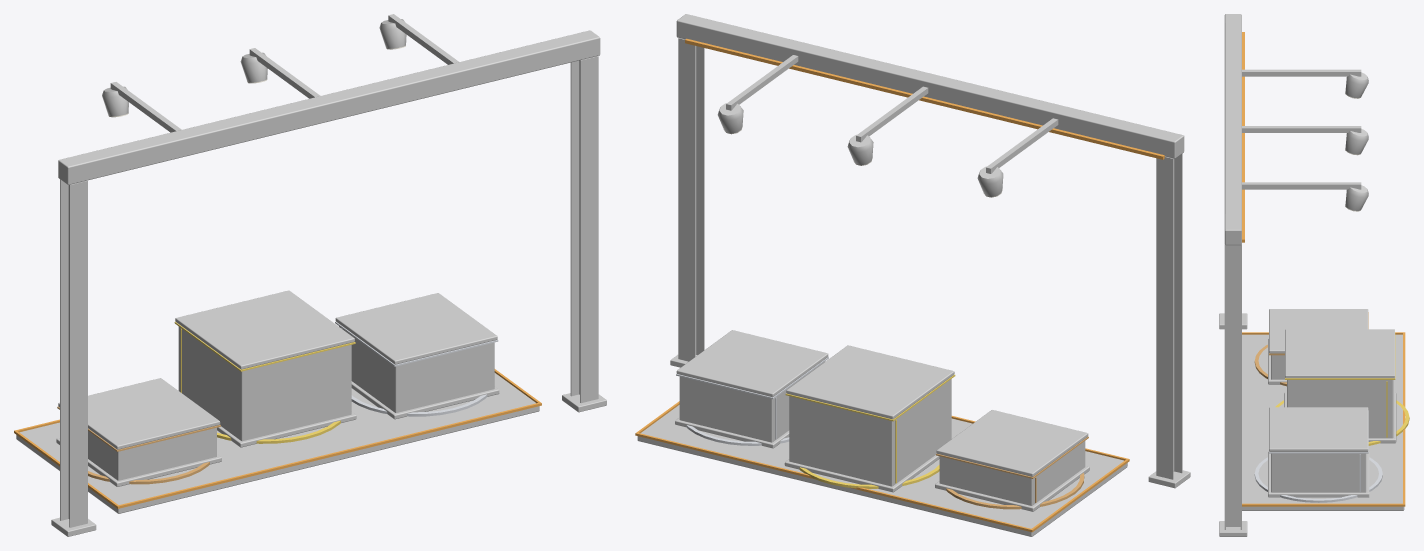
File: HallPodium.glb
3 renders of one model, left to right at view 1: azimuth 30°, elevation 25°; view 2: azimuth 150°, elevation 25°; view 3: azimuth 270°, elevation 25°, orthographic. The views are drawn at different scales.
Parts seen in each view (by area): view 1: Body, Accent, Gold, Silver, Bronze; view 2: Body, Accent, Gold, Bronze, Silver; view 3: Body, Accent, Silver, Gold, Bronze.
Part boxes in pixels (x1,y1,x2,y2): Body: [16, 14, 606, 536]; Accent: [14, 369, 541, 508]; Gold: [174, 321, 355, 443]; Silver: [335, 321, 498, 416]; Bronze: [57, 406, 220, 484]; Body: [637, 14, 1190, 536]; Accent: [635, 38, 1164, 532]; Gold: [785, 374, 955, 488]; Bronze: [936, 436, 1088, 509]; Silver: [676, 357, 828, 445]; Body: [1219, 14, 1404, 536]; Accent: [1242, 32, 1405, 506]; Silver: [1254, 410, 1382, 502]; Gold: [1275, 332, 1409, 445]; Bronze: [1254, 312, 1368, 386].
Size of the model in its own units: 48.6 by 31.6 by 17.8.
